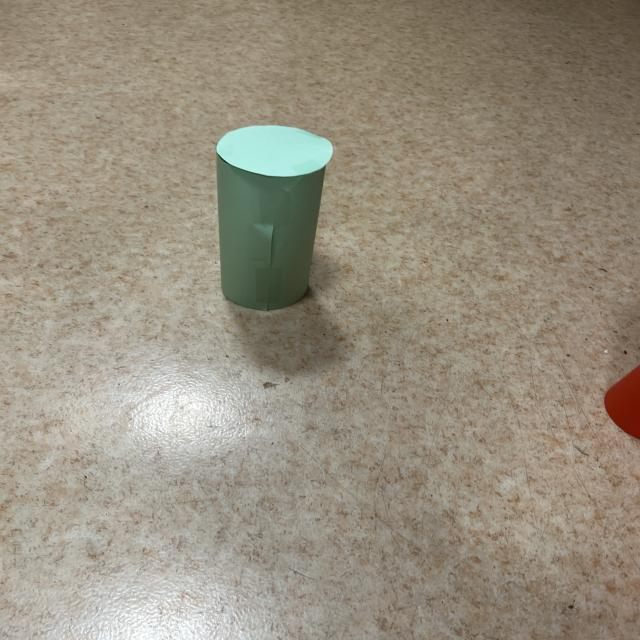meta: (216, 126, 332, 310)
